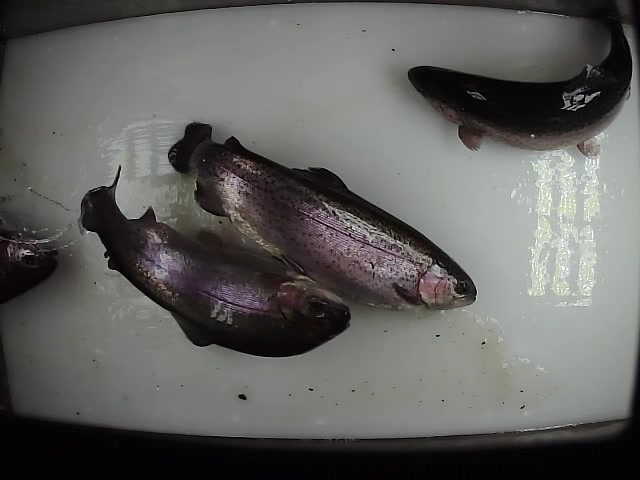fish: (166, 118, 479, 314), (75, 163, 354, 359), (404, 5, 634, 161)
